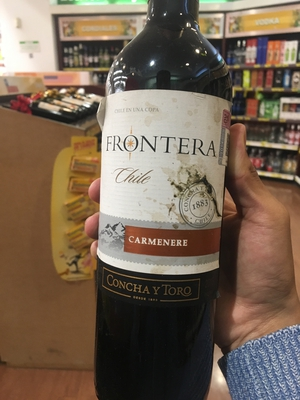frontera carmenere: (90, 14, 234, 400)
